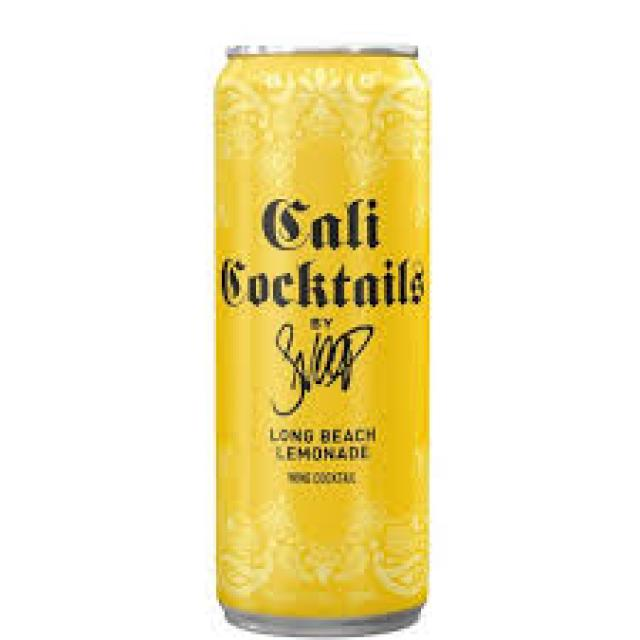Cans: (202, 29, 458, 637)
